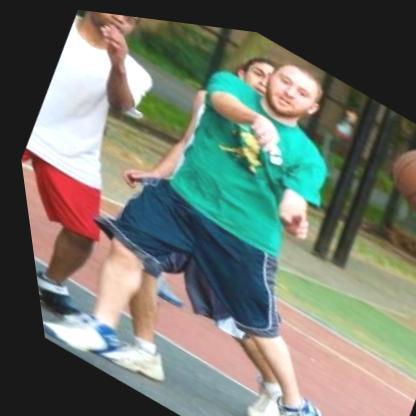basketball: (368, 115, 416, 232)
